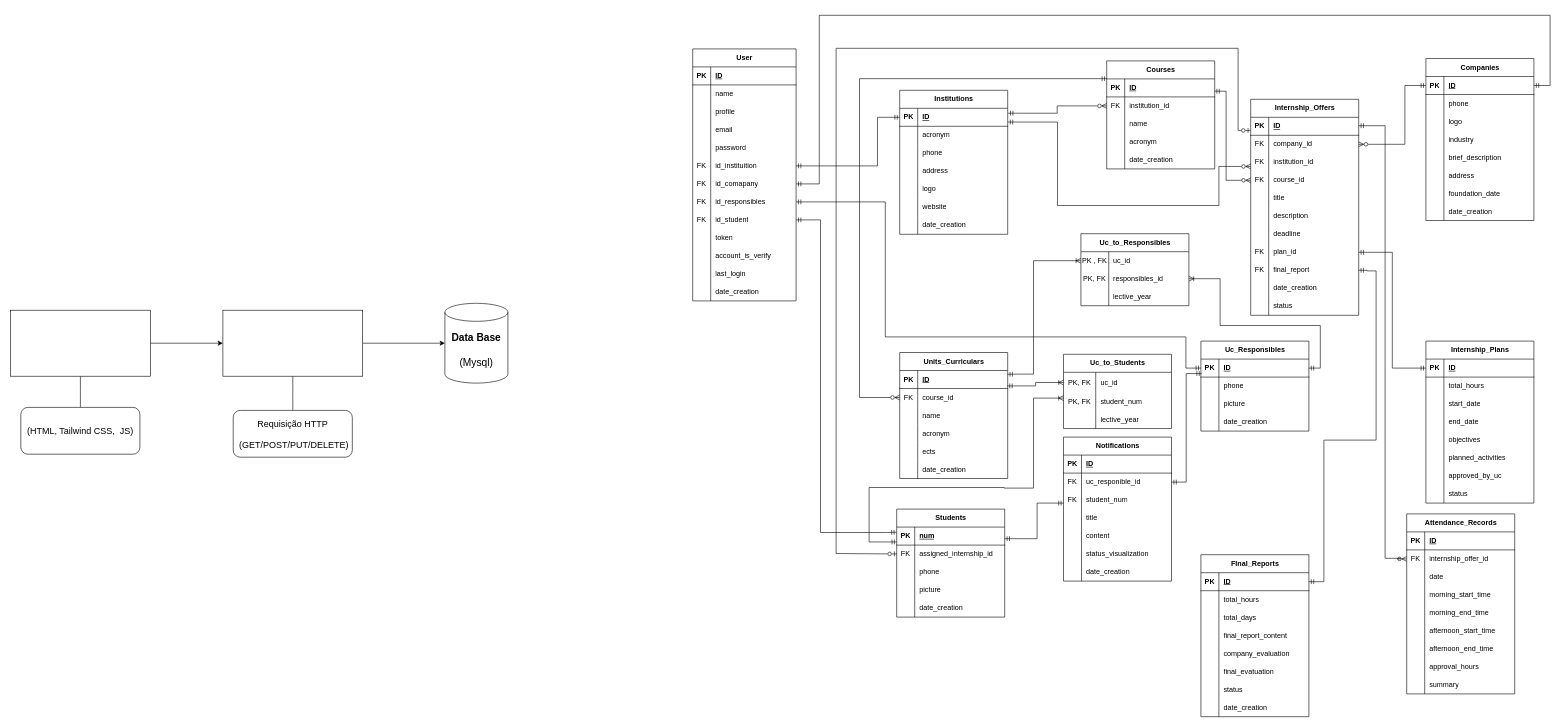
The diagram is 1566 pixels wide and 727 high, and some of its shapes have lost their labels. The shapes that lost their labels are listed below. From the top down, each one's centre as x and y in pixels, then its label:
At pixel 80 343: "Front-End (Laravel Blade)".
At pixel 292 343: "API (Laravel) (Laravel MVC)".
